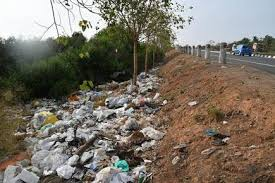garbage: (32, 102, 165, 183), (77, 88, 156, 148)
